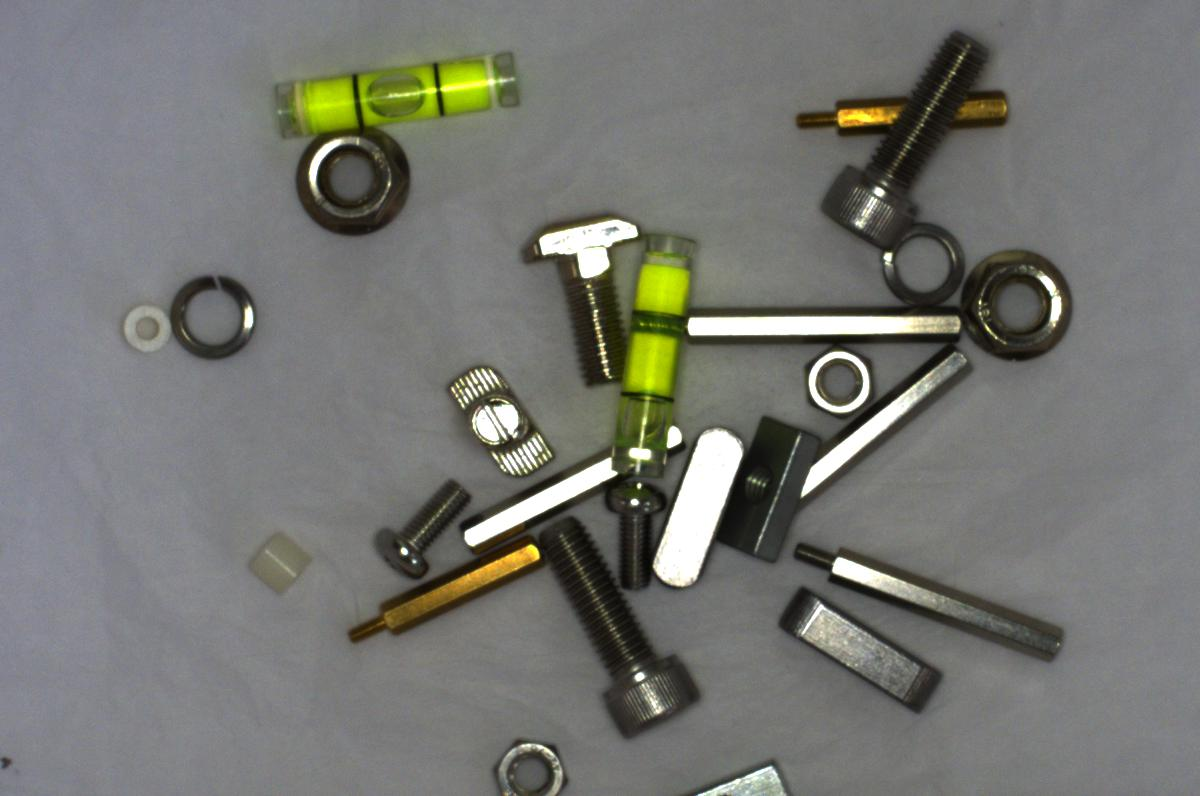Double hexagonal column: (782, 332, 975, 519), (453, 417, 683, 549)
Flange nut: (276, 119, 428, 246), (966, 244, 1088, 369)
Hexagon nut: (470, 727, 569, 795), (794, 342, 876, 417)
Hexagon pillar: (338, 541, 539, 650), (789, 90, 1017, 132)
Hexagon screw: (528, 510, 696, 741), (814, 39, 989, 254)
Hexagonal steel column: (787, 532, 1079, 658)
Horizontal bubble: (596, 228, 703, 448), (266, 46, 530, 131)
Keybar: (767, 585, 948, 726)
Plastic cushion pillar: (239, 523, 316, 605), (116, 295, 170, 358)
Round head screw: (360, 480, 470, 582), (593, 468, 669, 598)
Spring washer: (865, 209, 965, 309), (169, 264, 256, 360)
T-shaped screw: (519, 200, 647, 385), (434, 353, 557, 486)
